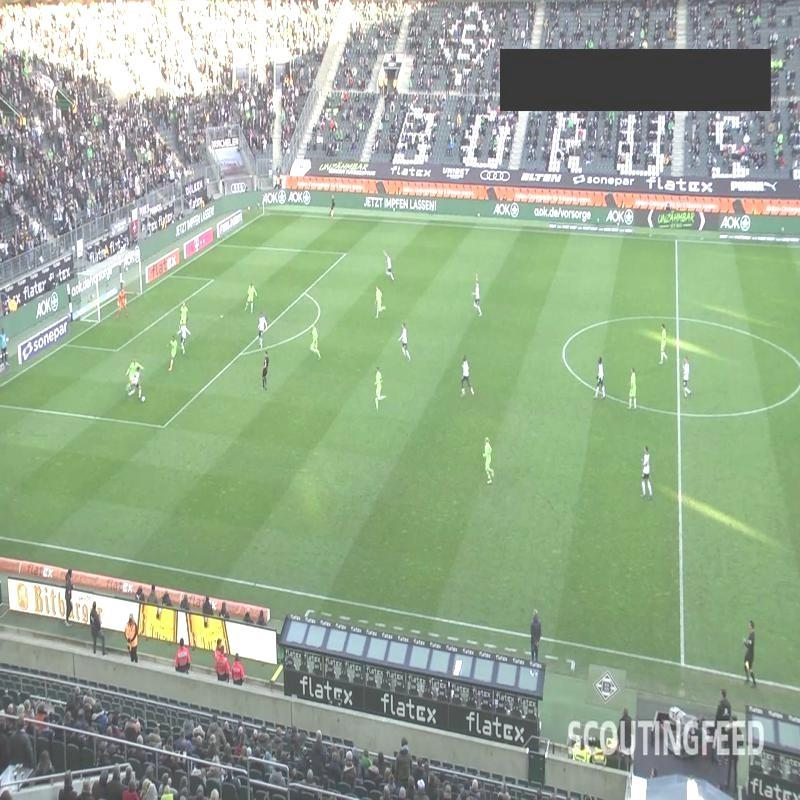1: (258, 206, 272, 219)
10: (299, 284, 313, 297)
11: (235, 344, 249, 358)
12: (158, 418, 172, 432)
13: (669, 232, 684, 246)
14: (670, 310, 685, 324)
15: (672, 406, 686, 420)
16: (676, 656, 690, 670)
2: (212, 237, 226, 250)
3: (164, 267, 178, 281)
4: (59, 336, 73, 350)
7: (208, 272, 222, 286)
8: (110, 342, 125, 356)
9: (339, 245, 353, 259)
c: (556, 344, 570, 361)
